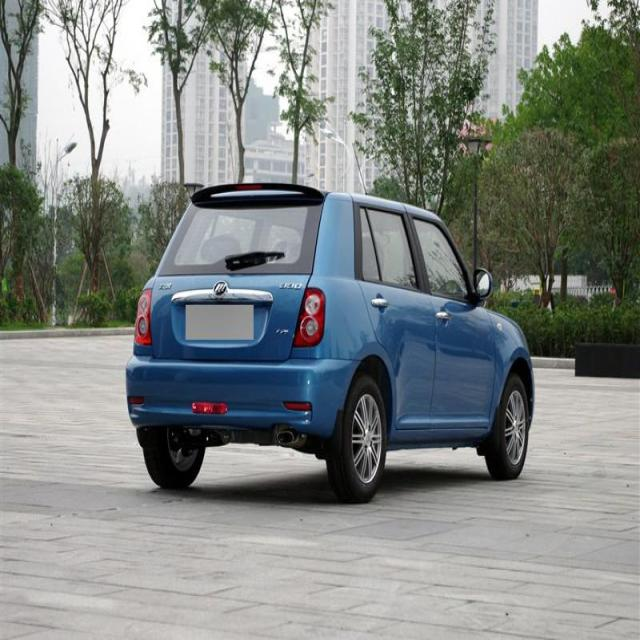back_glass: (154, 194, 326, 276)
back_left_side_light: (128, 283, 154, 348)
back_right_side_light: (291, 283, 329, 359)
door: (357, 198, 435, 436)
front_right_side_door: (403, 198, 501, 444)
front_right_side_mirror: (468, 260, 496, 318)
rear_bumper: (120, 354, 362, 442)
wheel: (327, 367, 390, 508), (482, 368, 532, 482), (140, 417, 208, 492)
